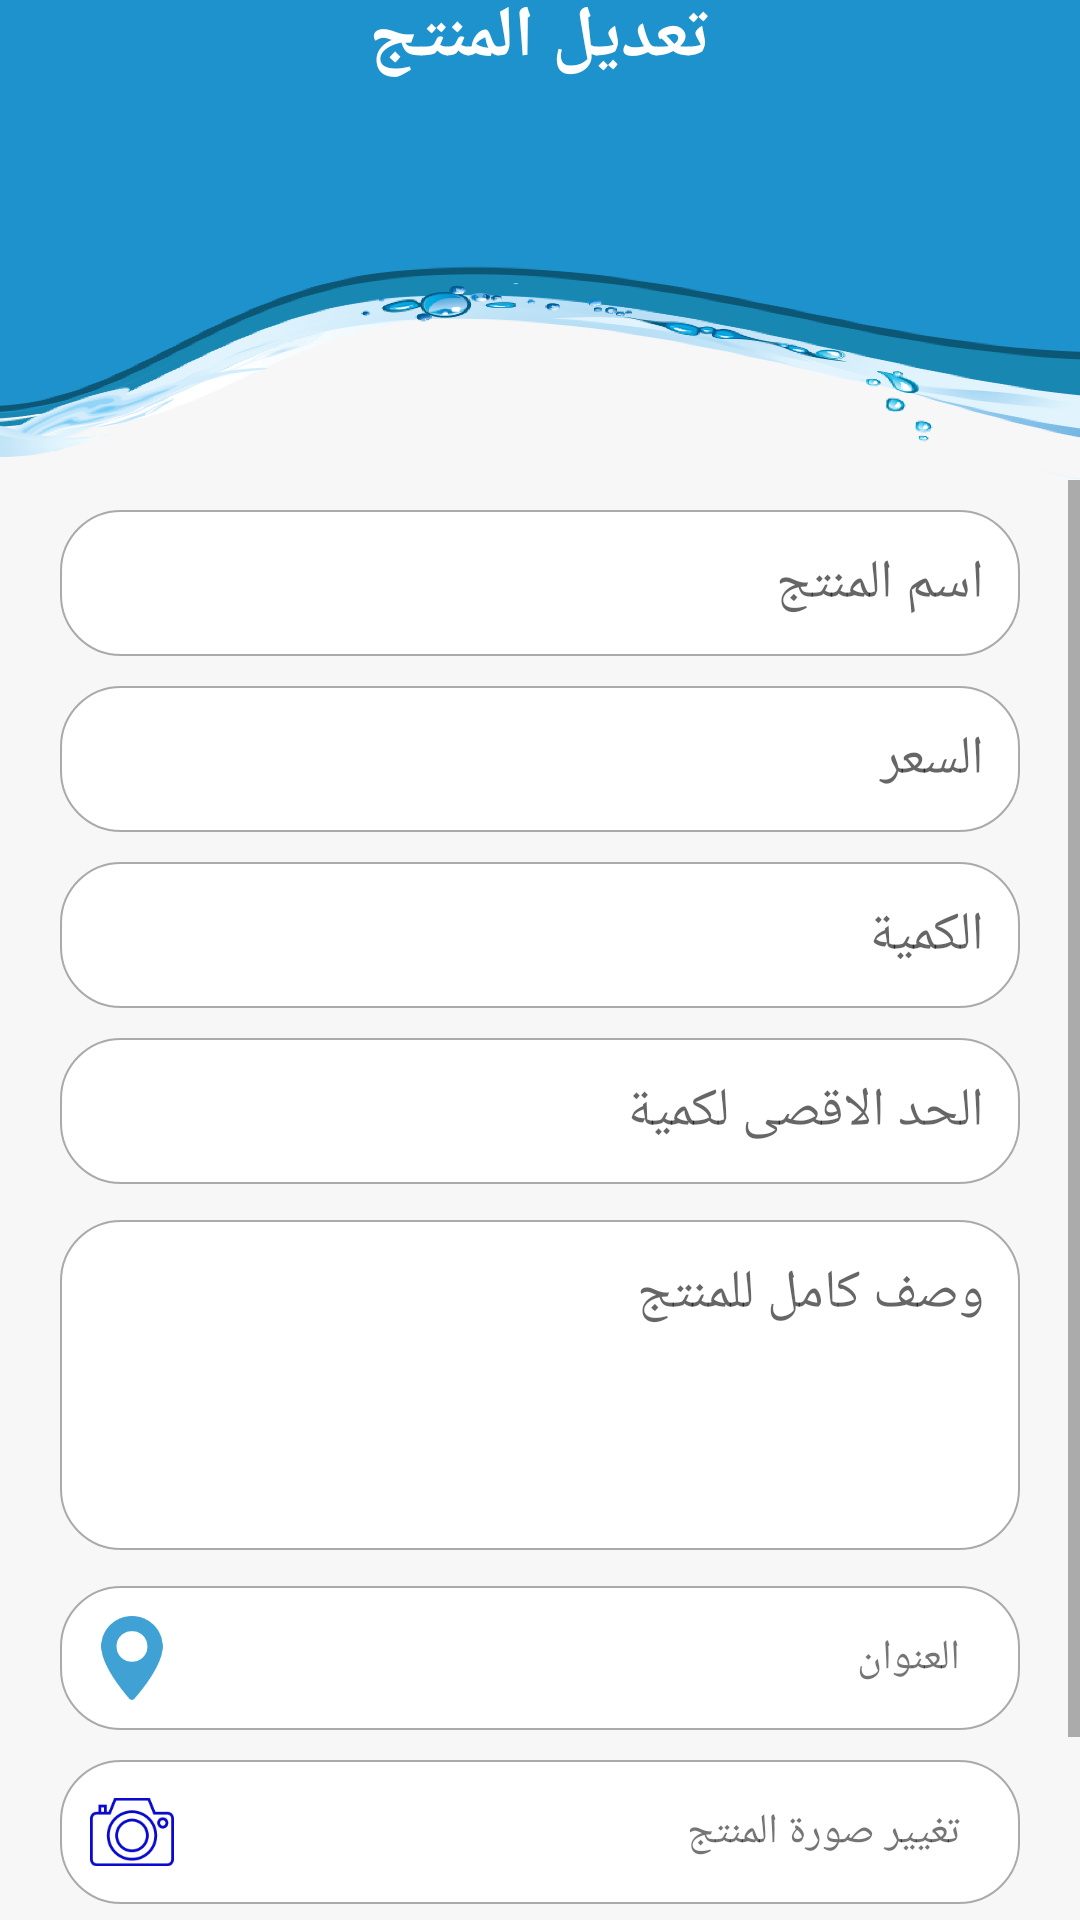

Where to tap for icons on this 1080 x 1920 app screen, as (x,y):
map: (132,1658)
